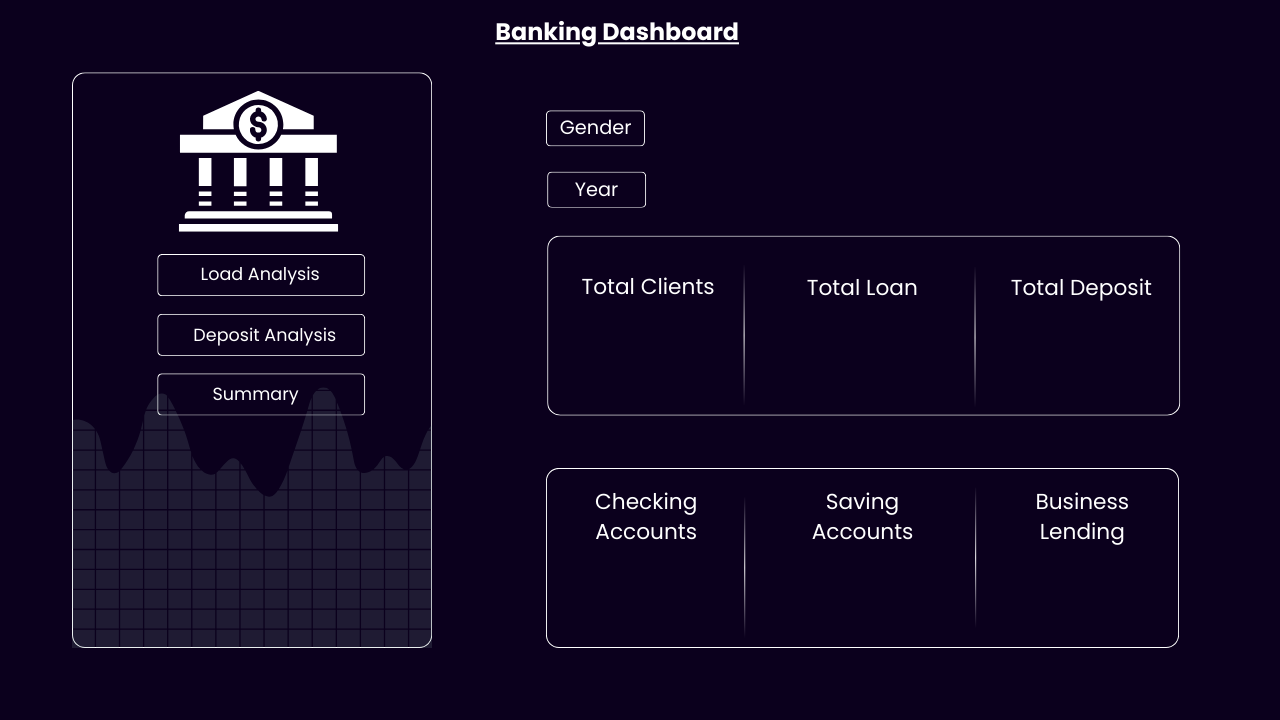

The dashboard page shown, as its layout file describes it:
{"tool":"powerbi","page":{"name":"Home","canvas":[1280,720],"ordinal":0},"visuals":[{"type":"card","fields":{"Values":["banking_case customer.Total Clients"]},"box":[500.1,280.2,280.2,102],"z":0},{"type":"slicer","fields":{"Values":["banking_case customer.GenderId"]},"box":[782.1,167.6,314.8,55],"z":1000},{"type":"card","fields":{"Values":["banking_case customer.Total Loan"]},"box":[734.2,280.2,280.2,102],"z":2000},{"type":"card","fields":{"Values":["banking_case customer.Total Deposit"]},"box":[939.9,280.2,280.2,102],"z":3000},{"type":"slicer","fields":{"Values":["banking_case customer.Year of Joining"]},"box":[700.5,108.2,478.8,52.3],"z":4000},{"type":"card","fields":{"Values":["Sum(banking_case customer.Business Lending)"]},"box":[939.9,523.2,280.2,102.9],"z":5000},{"type":"card","fields":{"Values":["Sum(banking_case customer.Saving Accounts)"]},"box":[720.9,523.2,280.2,102.9],"z":6000},{"type":"card","fields":{"Values":["Sum(banking_case customer.Checking Accounts)"]},"box":[500.1,523.2,280.2,102.9],"z":7000},{"type":"actionButton","box":[159,253,206,40],"z":8000},{"type":"actionButton","box":[159,311,206,40],"z":9000},{"type":"actionButton","box":[159,373,206,40],"z":10000}]}

Visuals, with their boxes in screenshot pixels (x1, y1, x2, y2), scaled from the page's 1280x720 canvas onto the 1280x720 screenshot:
card - banking_case customer.Total Clients: (left=500, top=280, right=780, bottom=382)
slicer - banking_case customer.GenderId: (left=782, top=168, right=1097, bottom=223)
card - banking_case customer.Total Loan: (left=734, top=280, right=1014, bottom=382)
card - banking_case customer.Total Deposit: (left=940, top=280, right=1220, bottom=382)
slicer - banking_case customer.Year of Joining: (left=700, top=108, right=1179, bottom=160)
card - Sum(banking_case customer.Business Lending): (left=940, top=523, right=1220, bottom=626)
card - Sum(banking_case customer.Saving Accounts): (left=721, top=523, right=1001, bottom=626)
card - Sum(banking_case customer.Checking Accounts): (left=500, top=523, right=780, bottom=626)
actionButton: (left=159, top=253, right=365, bottom=293)
actionButton: (left=159, top=311, right=365, bottom=351)
actionButton: (left=159, top=373, right=365, bottom=413)
